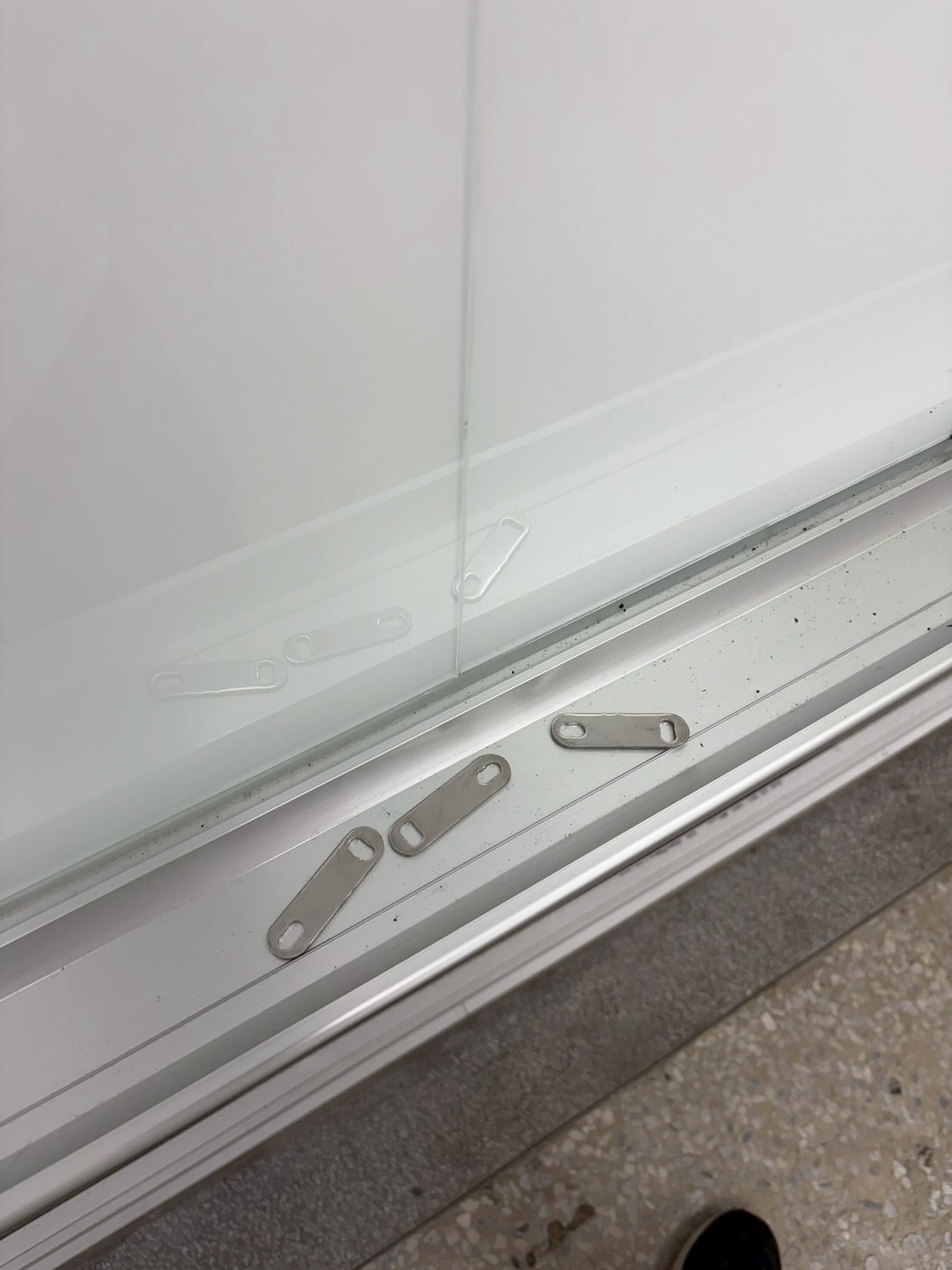Fe: (356, 812, 404, 983), (499, 738, 548, 893), (689, 706, 737, 849)
